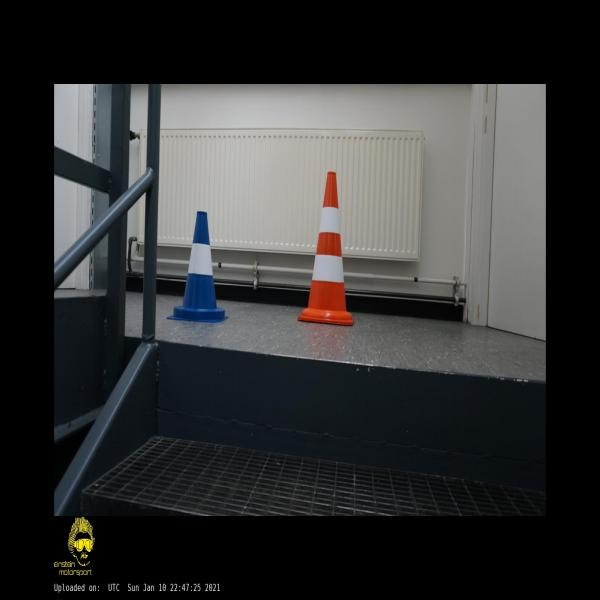blue_cone: (166, 211, 229, 322)
large_orange_cone: (296, 171, 354, 326)
